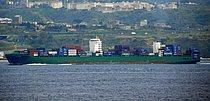Ship: (6, 35, 205, 72)
